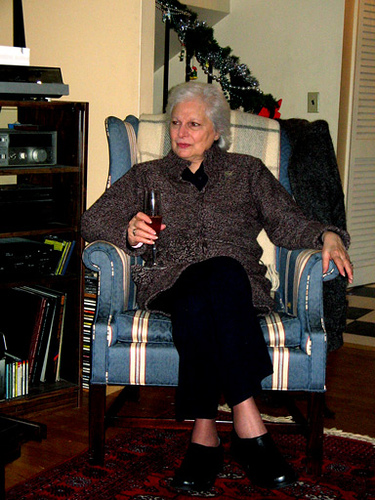without_mask: (170, 98, 224, 158)
